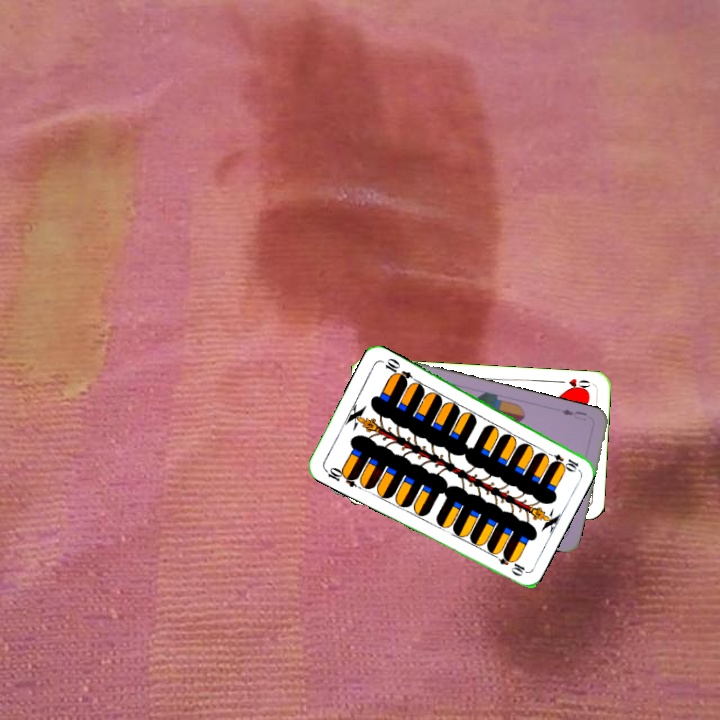E10: (321, 463, 360, 490), (542, 448, 581, 473)
EU: (557, 405, 589, 423)
HO: (554, 374, 595, 393)
